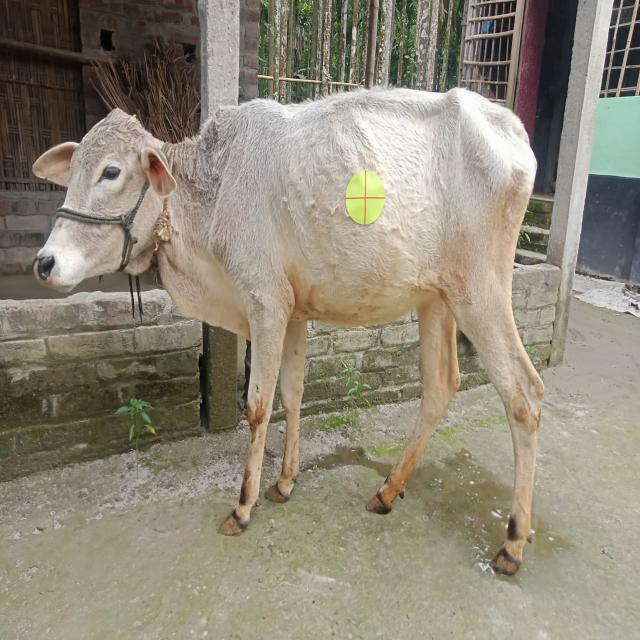badan_sapi: (218, 85, 531, 330)
sapi: (26, 68, 561, 600)
